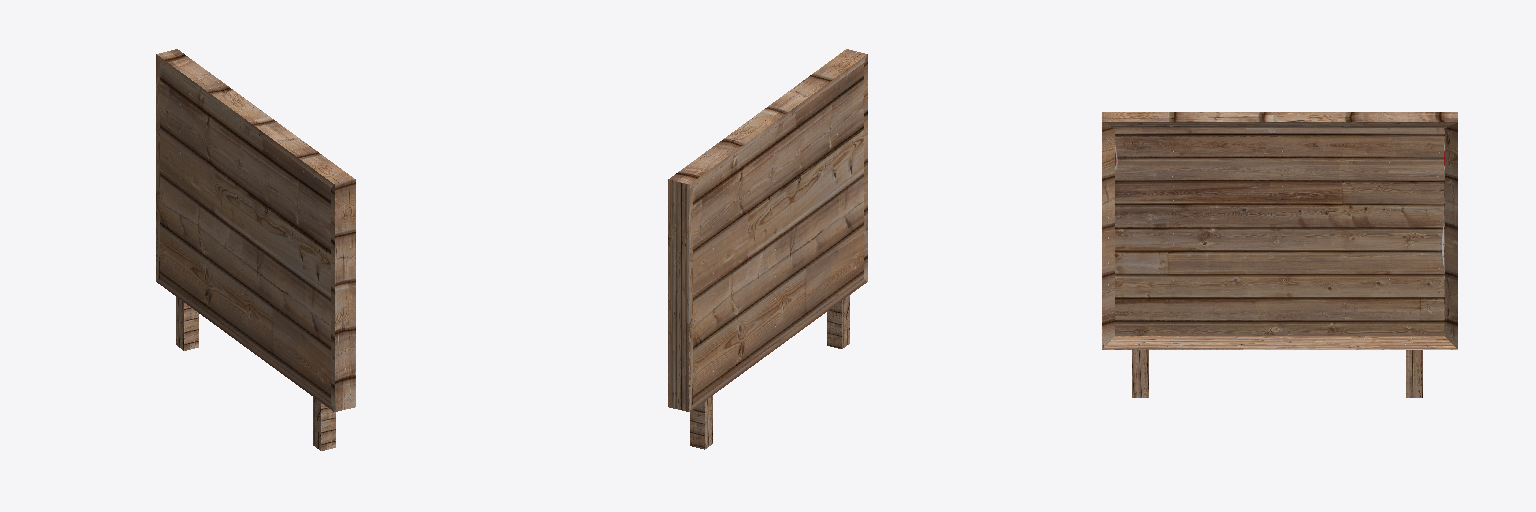
The picture shows the model from 3 angles: view 1: azimuth 30°, elevation 25°; view 2: azimuth 150°, elevation 25°; view 3: azimuth 270°, elevation 25°; orthographic projection.
Visible parts, largest first — view 1: Cube; view 2: Cube; view 3: Cube.
Part boxes in pixels (bbox=[...]): Cube: bbox=[156, 49, 355, 450]; Cube: bbox=[668, 49, 867, 449]; Cube: bbox=[1102, 112, 1457, 397].
Bounding box in the file's own units: 0.5554 × 7.01 × 8.13.
Materials: 1 (1 with a texture image).